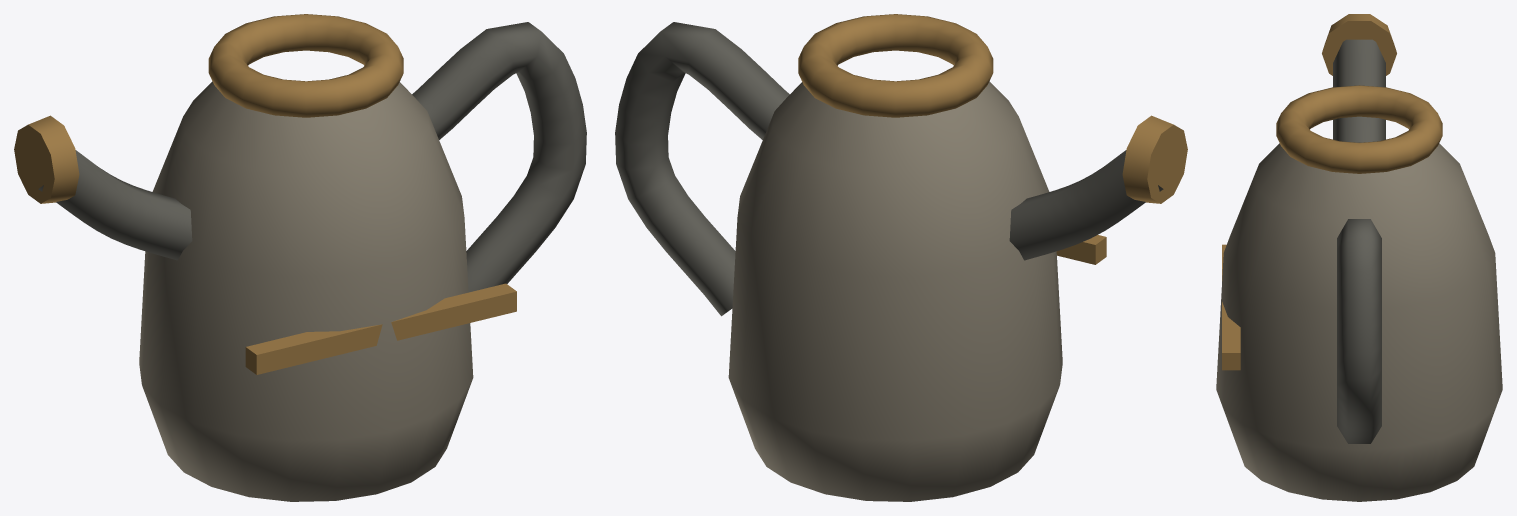
File: sk_jug.glb
3 views of the same model, side by side, from view 1: azimuth 30°, elevation 25°; view 2: azimuth 150°, elevation 25°; view 3: azimuth 270°, elevation 25° (orthographic). The views are drawn at different scales.
Parts seen in each view (by area): view 1: stone, metal; view 2: stone, metal; view 3: stone, metal.
Boxes of the visible parts, left/top/right/bottom form: stone: left=38, top=22, right=586, bottom=501; metal: left=14, top=14, right=516, bottom=374; stone: left=615, top=22, right=1163, bottom=501; metal: left=798, top=14, right=1187, bottom=264; stone: left=1216, top=39, right=1502, bottom=501; metal: left=1222, top=14, right=1442, bottom=370.
Bounding box in the file's own units: 0.718 × 0.522 × 0.38.
